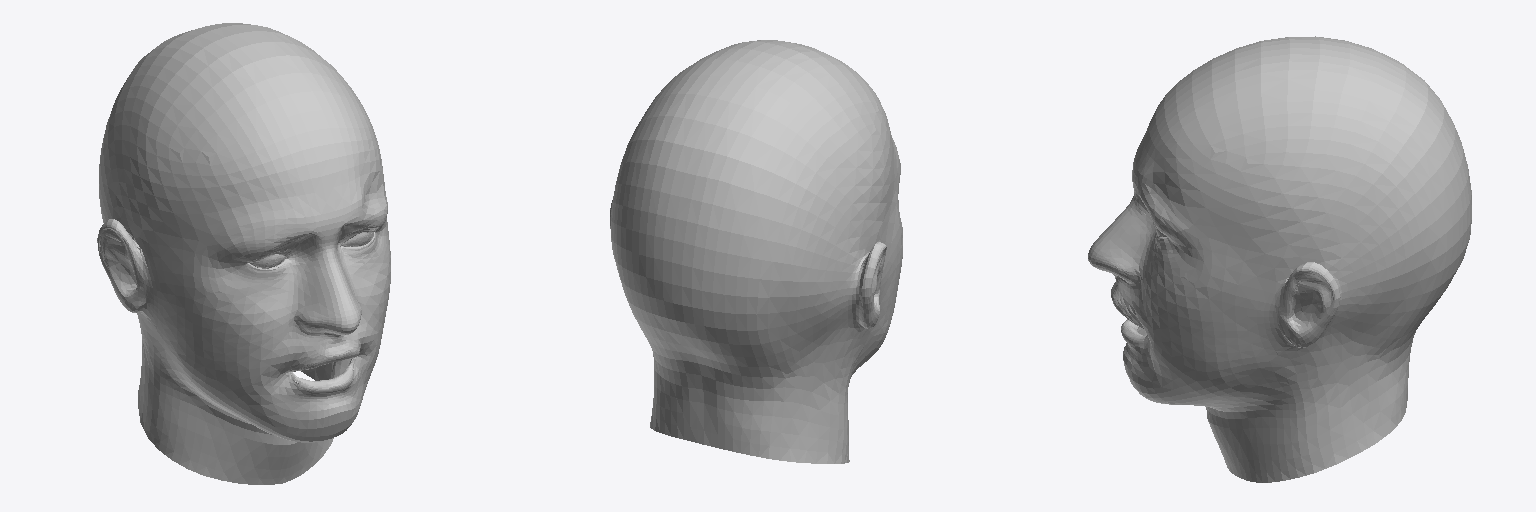
File: MaleFace_ExpressionFear.obj
The picture shows the model from 3 angles: view 1: azimuth 30°, elevation 25°; view 2: azimuth 150°, elevation 25°; view 3: azimuth 270°, elevation 25°; orthographic projection.
Size of the model in its own units: 189 by 284 by 238.